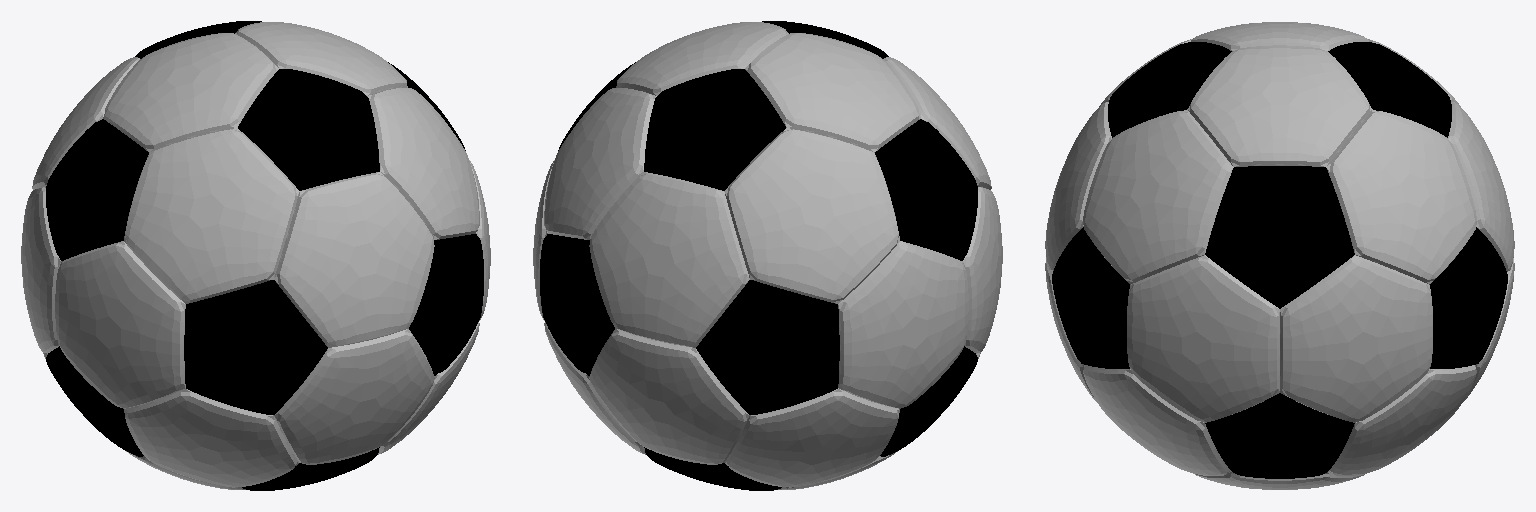
File: football.obj
The picture shows the model from 3 angles: view 1: azimuth 30°, elevation 25°; view 2: azimuth 150°, elevation 25°; view 3: azimuth 270°, elevation 25°; orthographic projection.
Visible parts, largest first — view 1: Hedra01; view 2: Hedra01; view 3: Hedra01.
Part boxes in pixels (x1,y1,x2,y2): Hedra01: (21,21,490,490); Hedra01: (533,21,1002,490); Hedra01: (1045,22,1514,489).
Bounding box in the file's own units: 92.08 × 92.08 × 92.08.